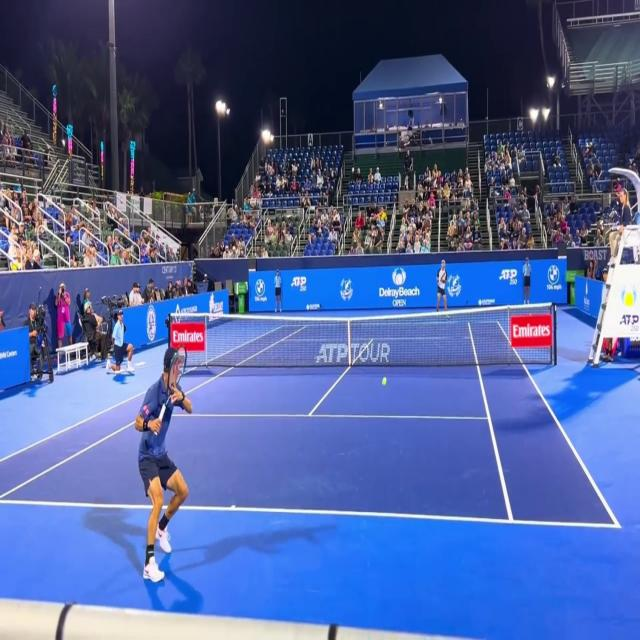tennisBall: (380, 376, 388, 390)
